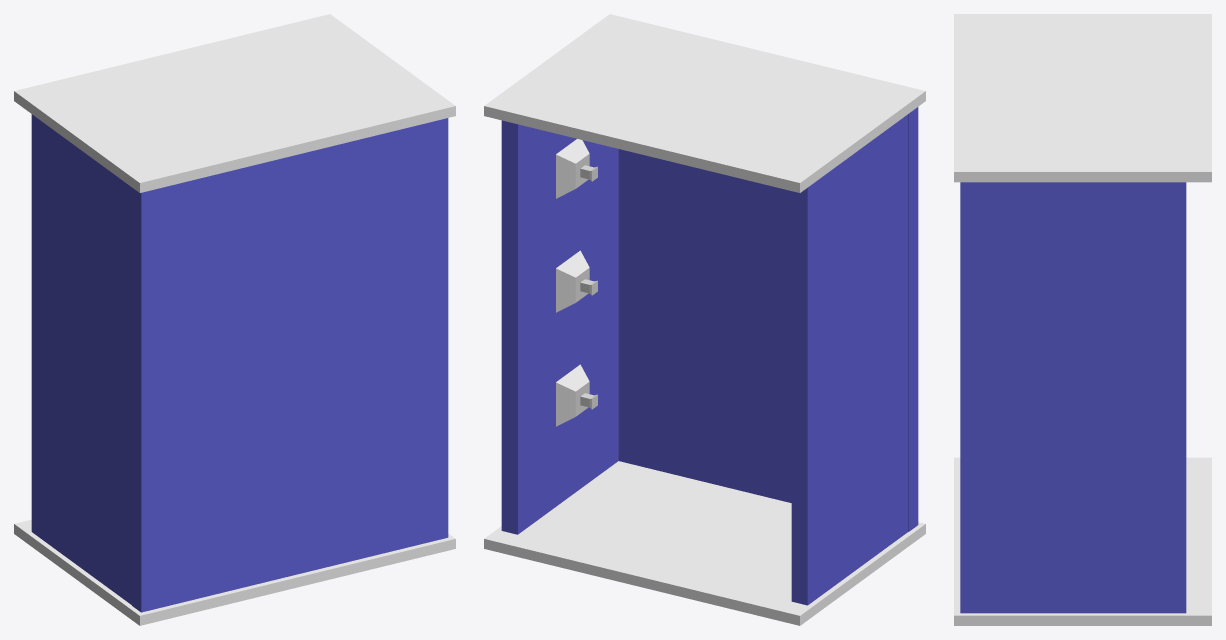
File: Resprayer.glb
3 renders of one model, left to right at view 1: azimuth 30°, elevation 25°; view 2: azimuth 150°, elevation 25°; view 3: azimuth 270°, elevation 25°, orthographic. The views are drawn at different scales.
Visible parts, largest first — view 1: Cube.003, Cube.004, Cube.001, Cube; view 2: Cube.003, Cube.001, Cube.004, Cube.002, Cube, Cube.007, Cube.005, Cube.006; view 3: Cube.002, Cube.004, Cube.003, Cube.
Part boxes in pixels (box(x1,y1,x2,y2)): Cube.003: box(132, 118, 448, 612); Cube.004: box(14, 14, 455, 192); Cube.001: box(31, 114, 131, 604); Cube: box(14, 519, 455, 625); Cube.003: box(618, 107, 918, 531); Cube.001: box(791, 114, 908, 605); Cube.004: box(484, 14, 925, 192); Cube.002: box(501, 120, 618, 534); Cube: box(484, 461, 925, 625); Cube.007: box(556, 364, 597, 426); Cube.005: box(556, 250, 597, 312); Cube.006: box(556, 139, 597, 198); Cube.002: box(979, 182, 1186, 613); Cube.004: box(954, 14, 1211, 182); Cube.003: box(960, 182, 979, 613); Cube: box(954, 457, 1211, 625).
Size of the model in its own units: 2.9 by 3.89 by 2.
